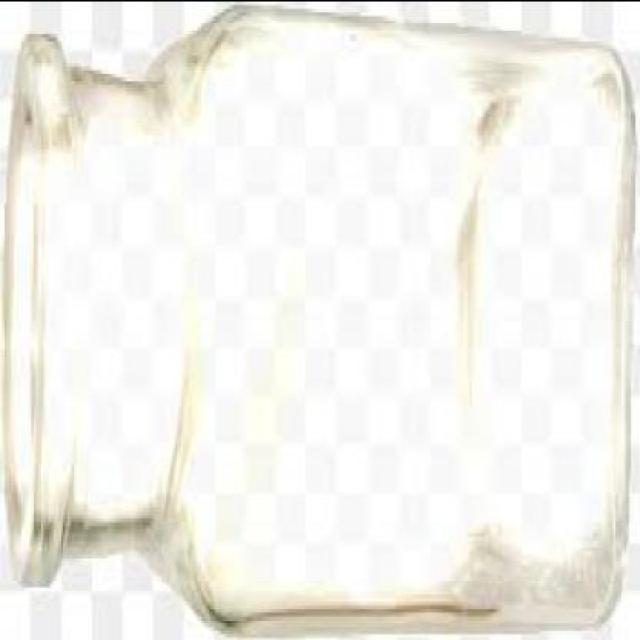GLASS: (2, 0, 638, 637)
